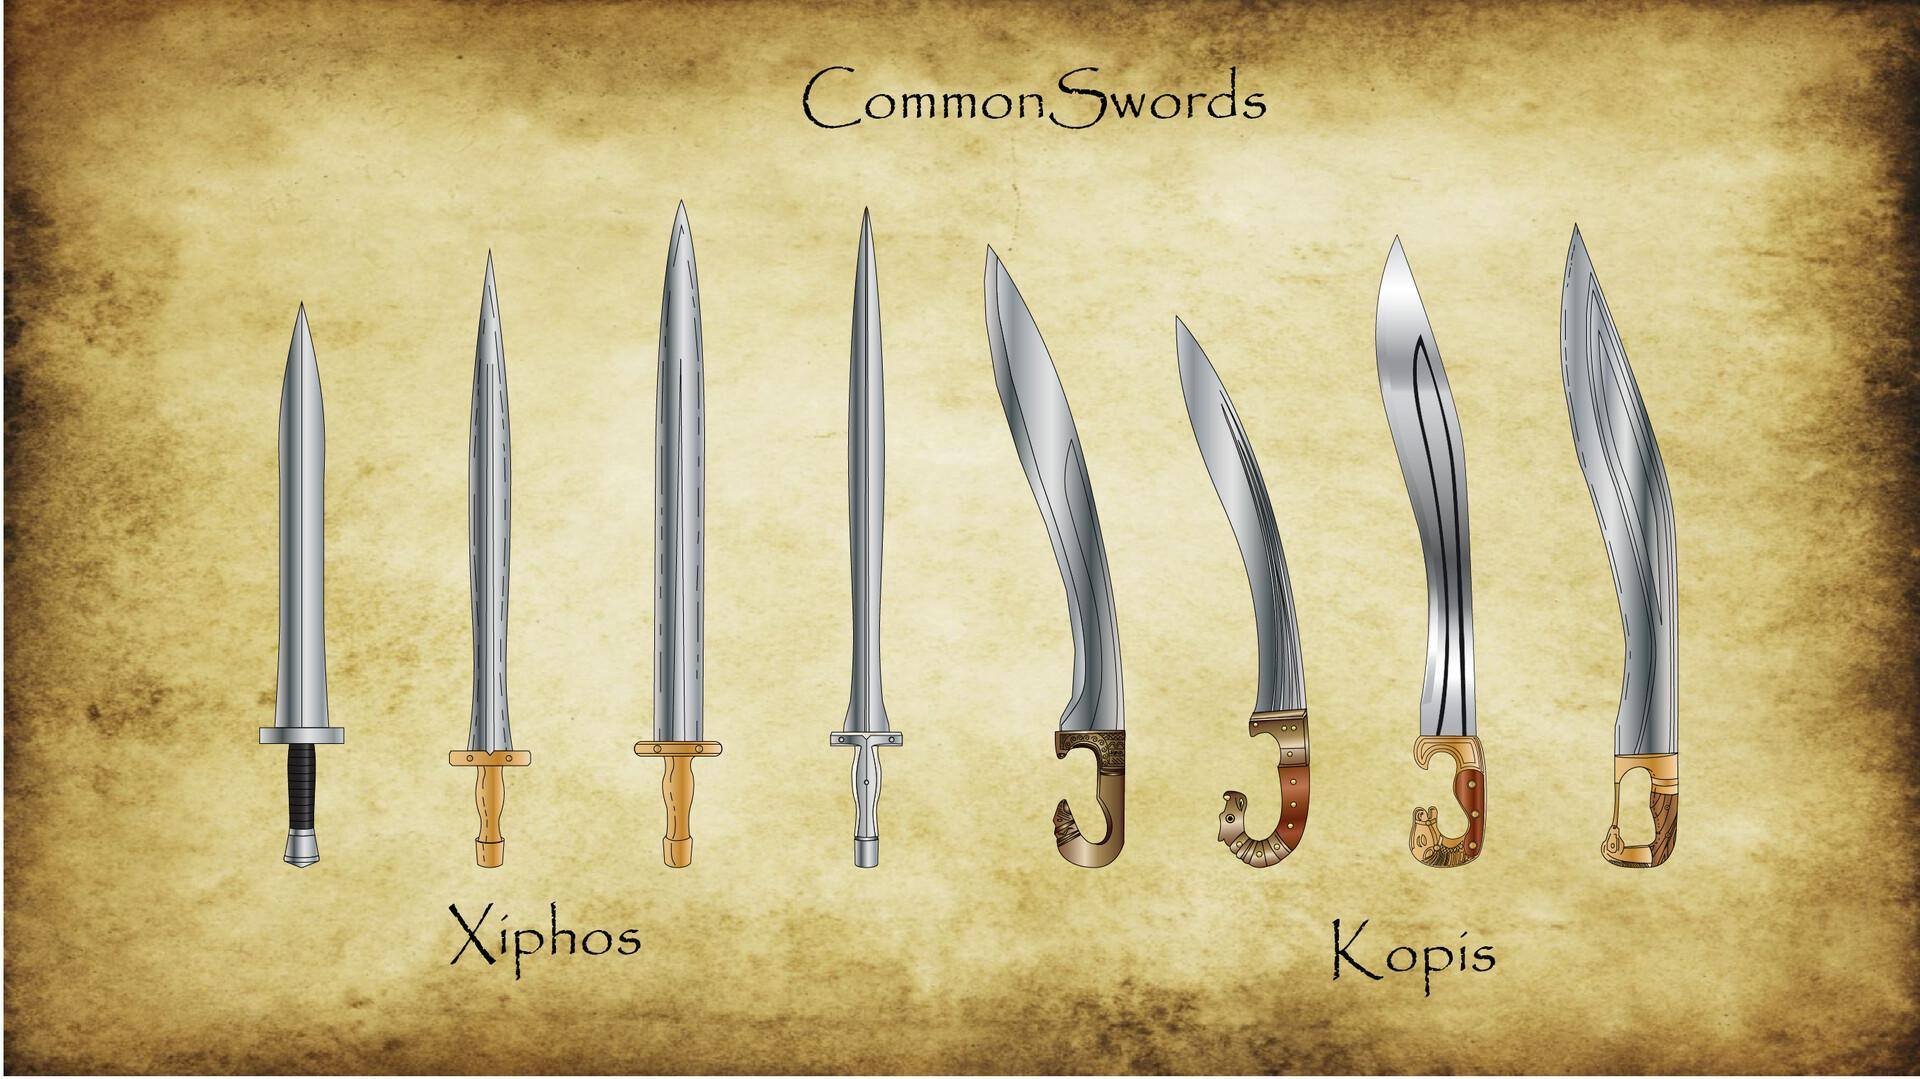espada: (575, 132, 752, 889), (220, 252, 378, 868), (793, 220, 928, 925), (413, 255, 564, 880)
facao: (1490, 123, 1726, 872), (1291, 193, 1534, 885), (940, 204, 1156, 897), (1145, 297, 1332, 898)
